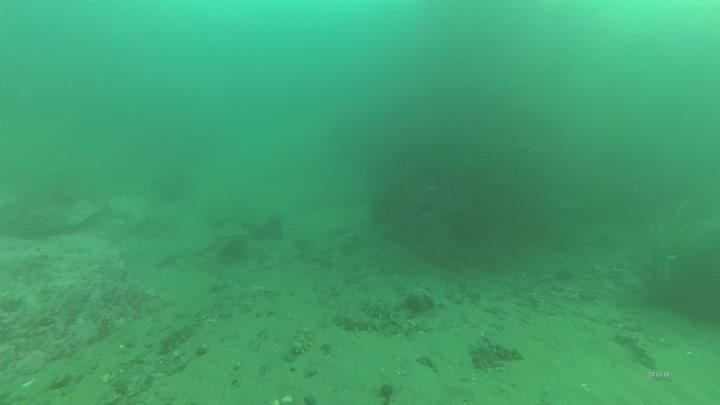holothurian: (611, 328, 662, 373), (467, 338, 527, 368), (332, 310, 396, 336), (156, 321, 198, 357), (278, 325, 320, 361), (358, 294, 399, 319), (200, 303, 234, 323), (302, 250, 336, 270)
